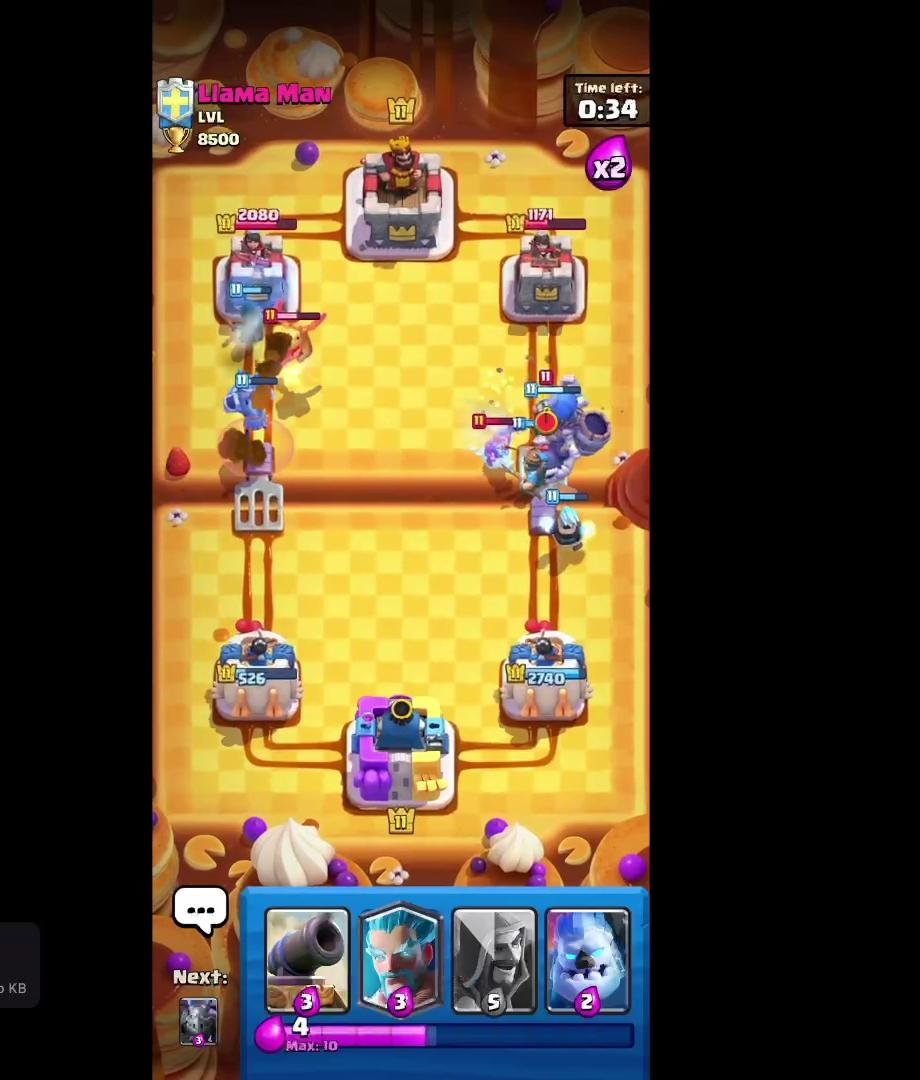Baby Dragon: (260, 303, 326, 369)
